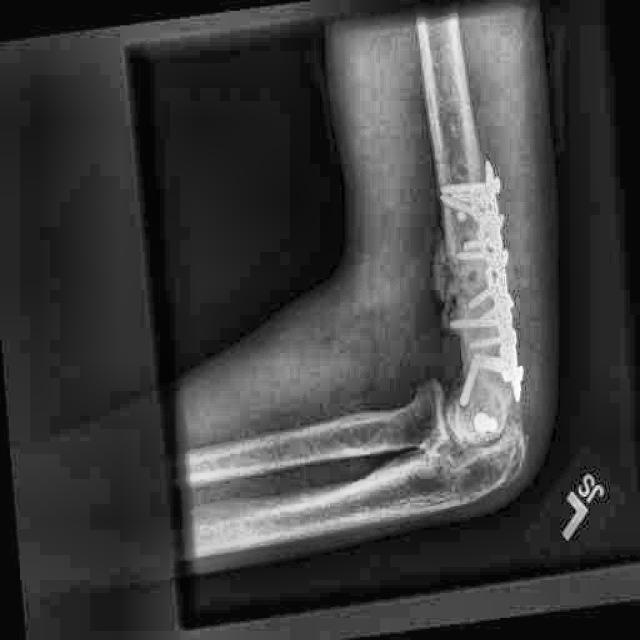elbow positive: (463, 416, 537, 501)
